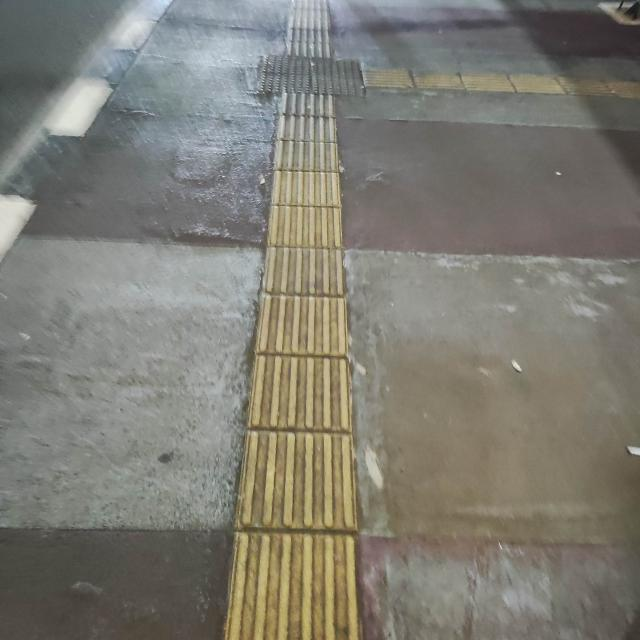lurus: (252, 85, 354, 640)
